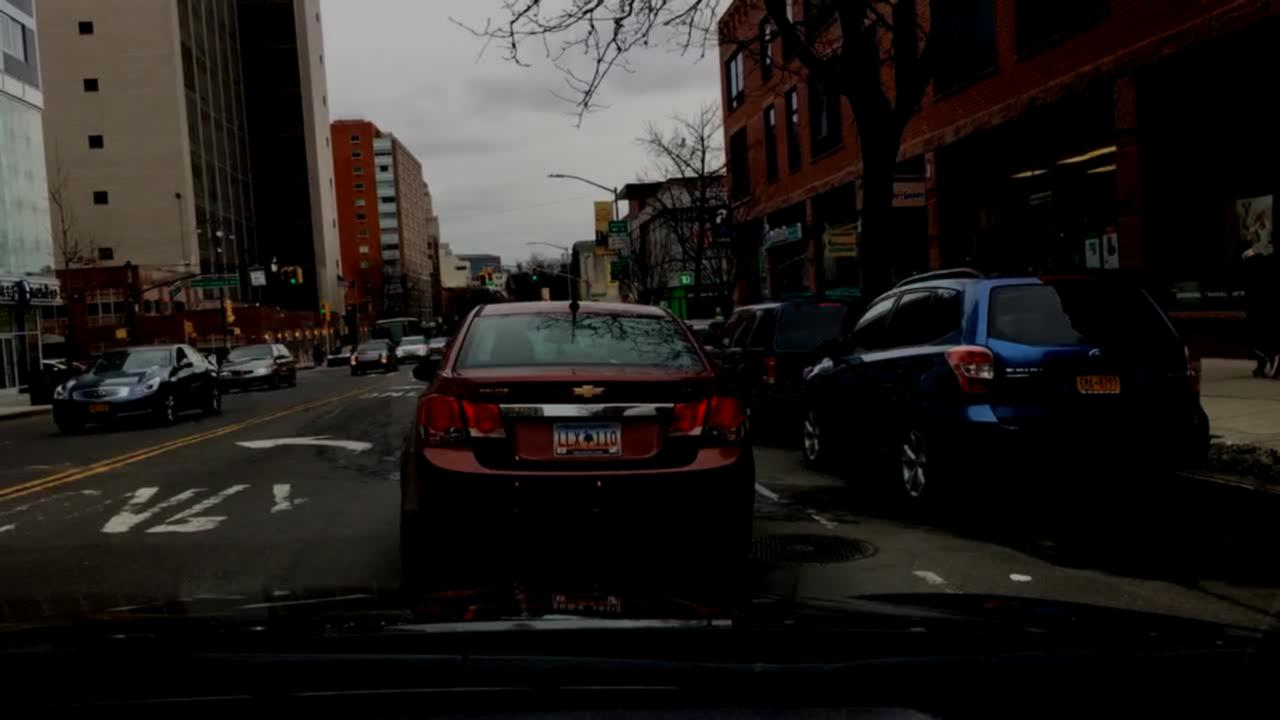chevrolet: (568, 377, 617, 410)
subaru: (1084, 348, 1121, 367)
